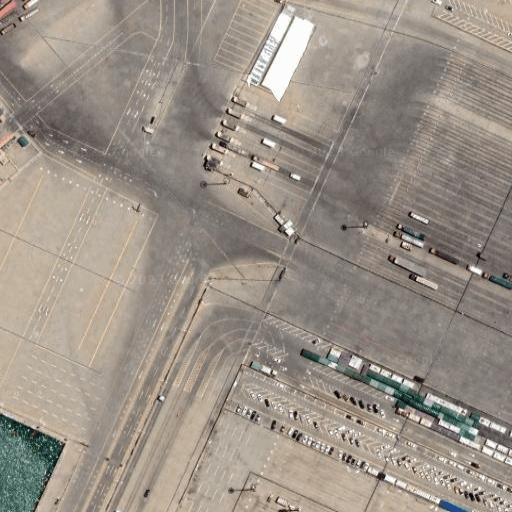building: (262, 17, 314, 94), (248, 11, 291, 85), (438, 499, 469, 512), (278, 5, 294, 17)
